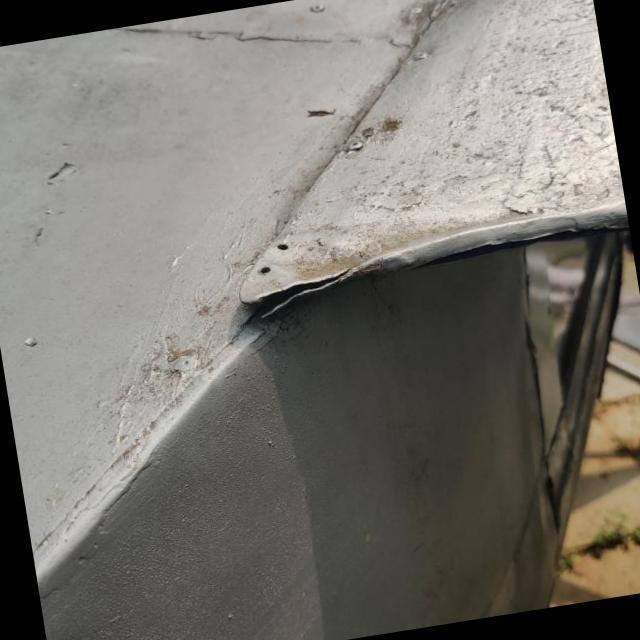Rupture: (222, 254, 378, 354)
